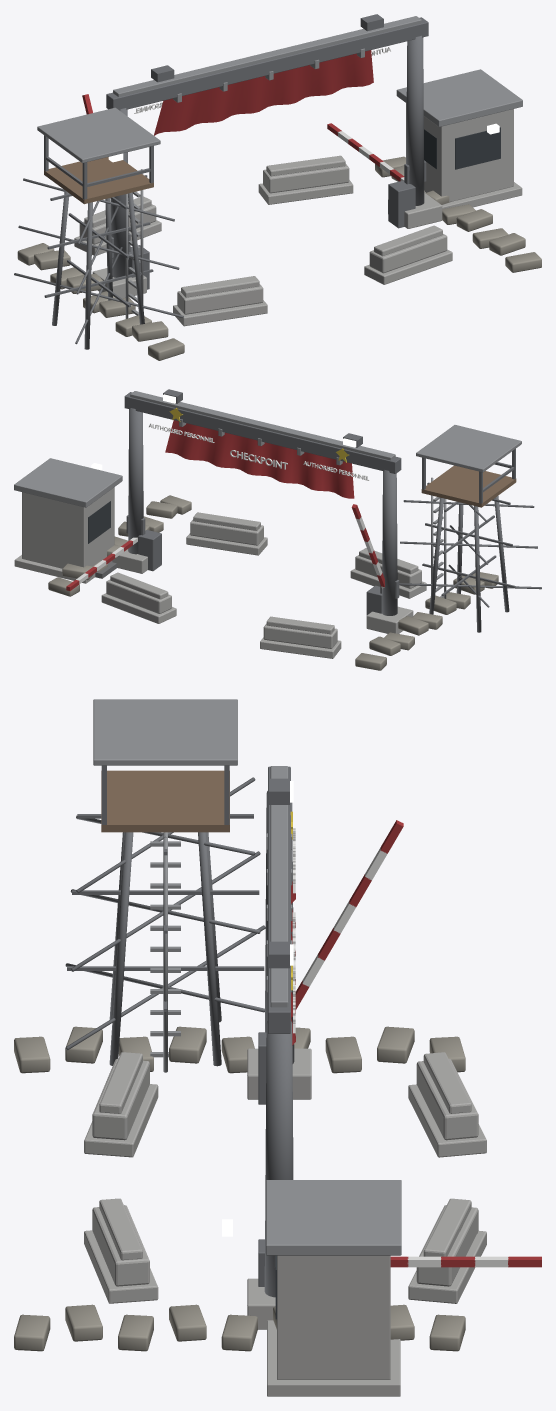
File: checkpoint.glb
The picture shows the model from 3 angles, top to bottom: view 1: azimuth 30°, elevation 25°; view 2: azimuth 150°, elevation 25°; view 3: azimuth 270°, elevation 25°; orthographic projection. The views are drawn at different scales.
Visible parts, largest first — view 1: Env_checkpoint; view 2: Env_checkpoint; view 3: Env_checkpoint.
Boxes of the visible parts, box(x1,y1,x2,y2) form: Env_checkpoint: box(14, 14, 541, 360); Env_checkpoint: box(14, 389, 541, 670); Env_checkpoint: box(14, 699, 541, 1396).
Size of the model in its own units: 19 by 7.48 by 10.67.
